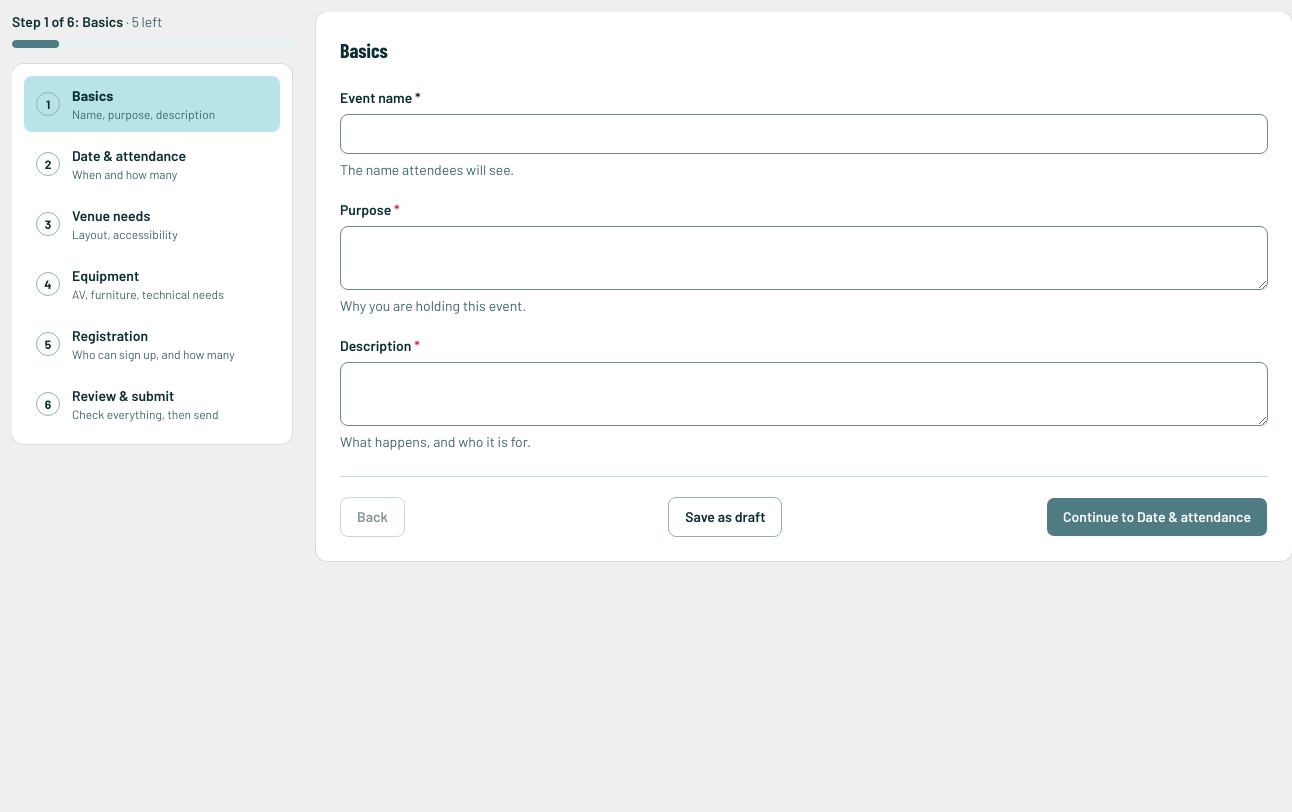
Test: SCRUM-53/AC1 Save as draft button › shows the server's message and lets the organiser try again when the save fails
Click the button "Save as draft": click(725, 517) 668,497 -> 782,537
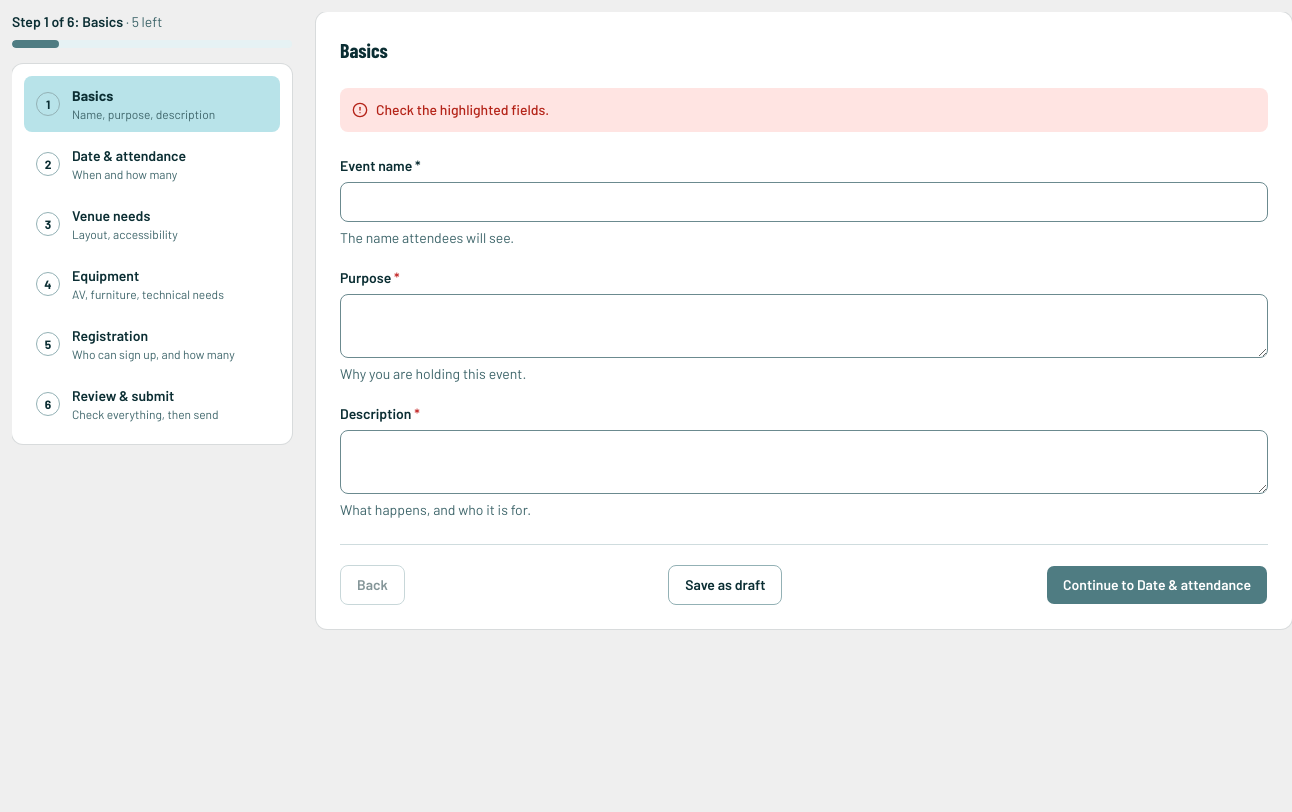
Check: the button "Save as draft" is enabled, box 668,565 -> 782,605
Check: the message shows "Check the highlighted fields", box 376,101 -> 549,118
